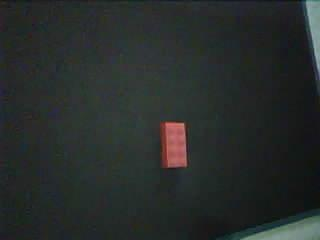lego: (158, 121, 189, 169)
